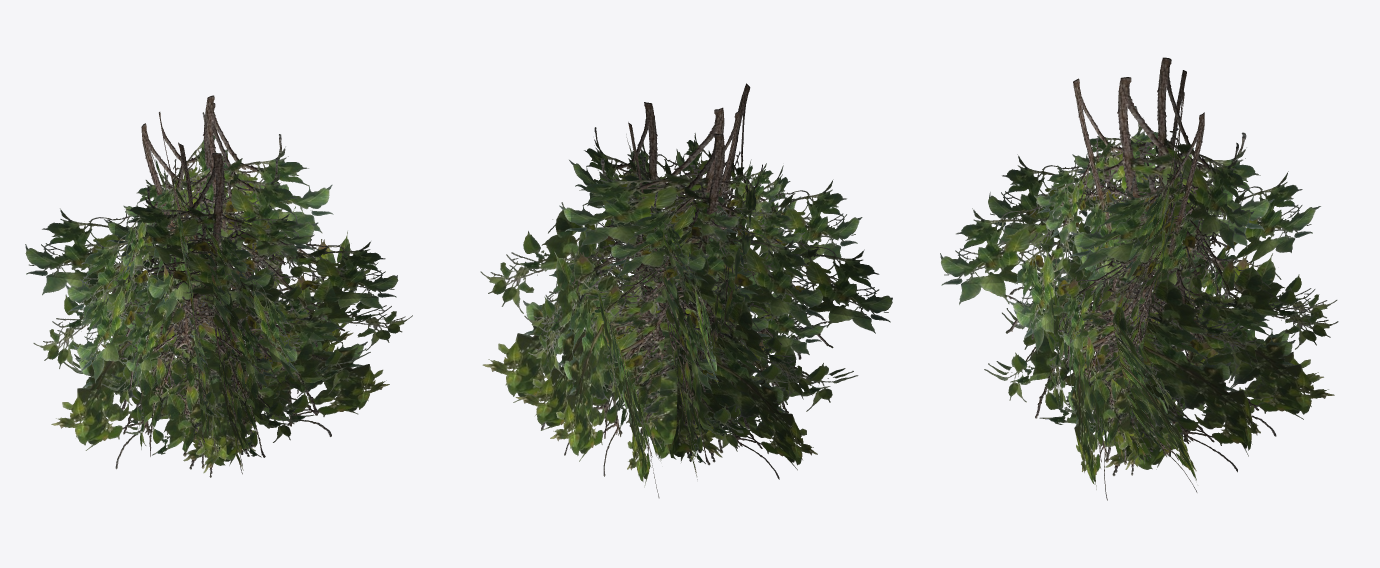
The model's file is bush.glb.
3 renders of one model, left to right at view 1: azimuth 30°, elevation 25°; view 2: azimuth 150°, elevation 25°; view 3: azimuth 270°, elevation 25°, orthographic. The views are drawn at different scales.
Visible parts, largest first — view 1: bushleaves; view 2: bushleaves; view 3: bushleaves.
Boxes of the visible parts, x1=… form: bushleaves: x1=25, y1=95, x2=412, y2=477; bushleaves: x1=480, y1=83, x2=892, y2=498; bushleaves: x1=940, y1=57, x2=1338, y2=500.
Bounding box in the file's own units: 1.08 × 1.1 × 1.06.
Materials: 1 (1 with a texture image).
